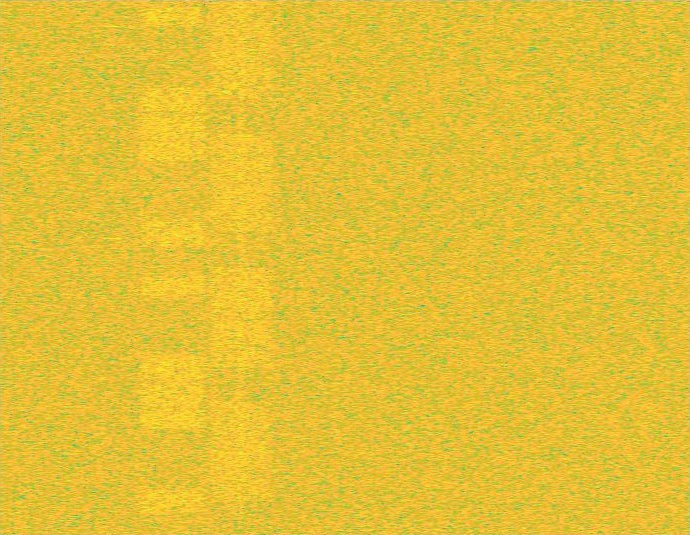5G: (207, 0, 276, 534)
DSSS: (237, 0, 246, 534)
LTE: (138, 0, 207, 534)
Radar: (106, 0, 120, 534)
